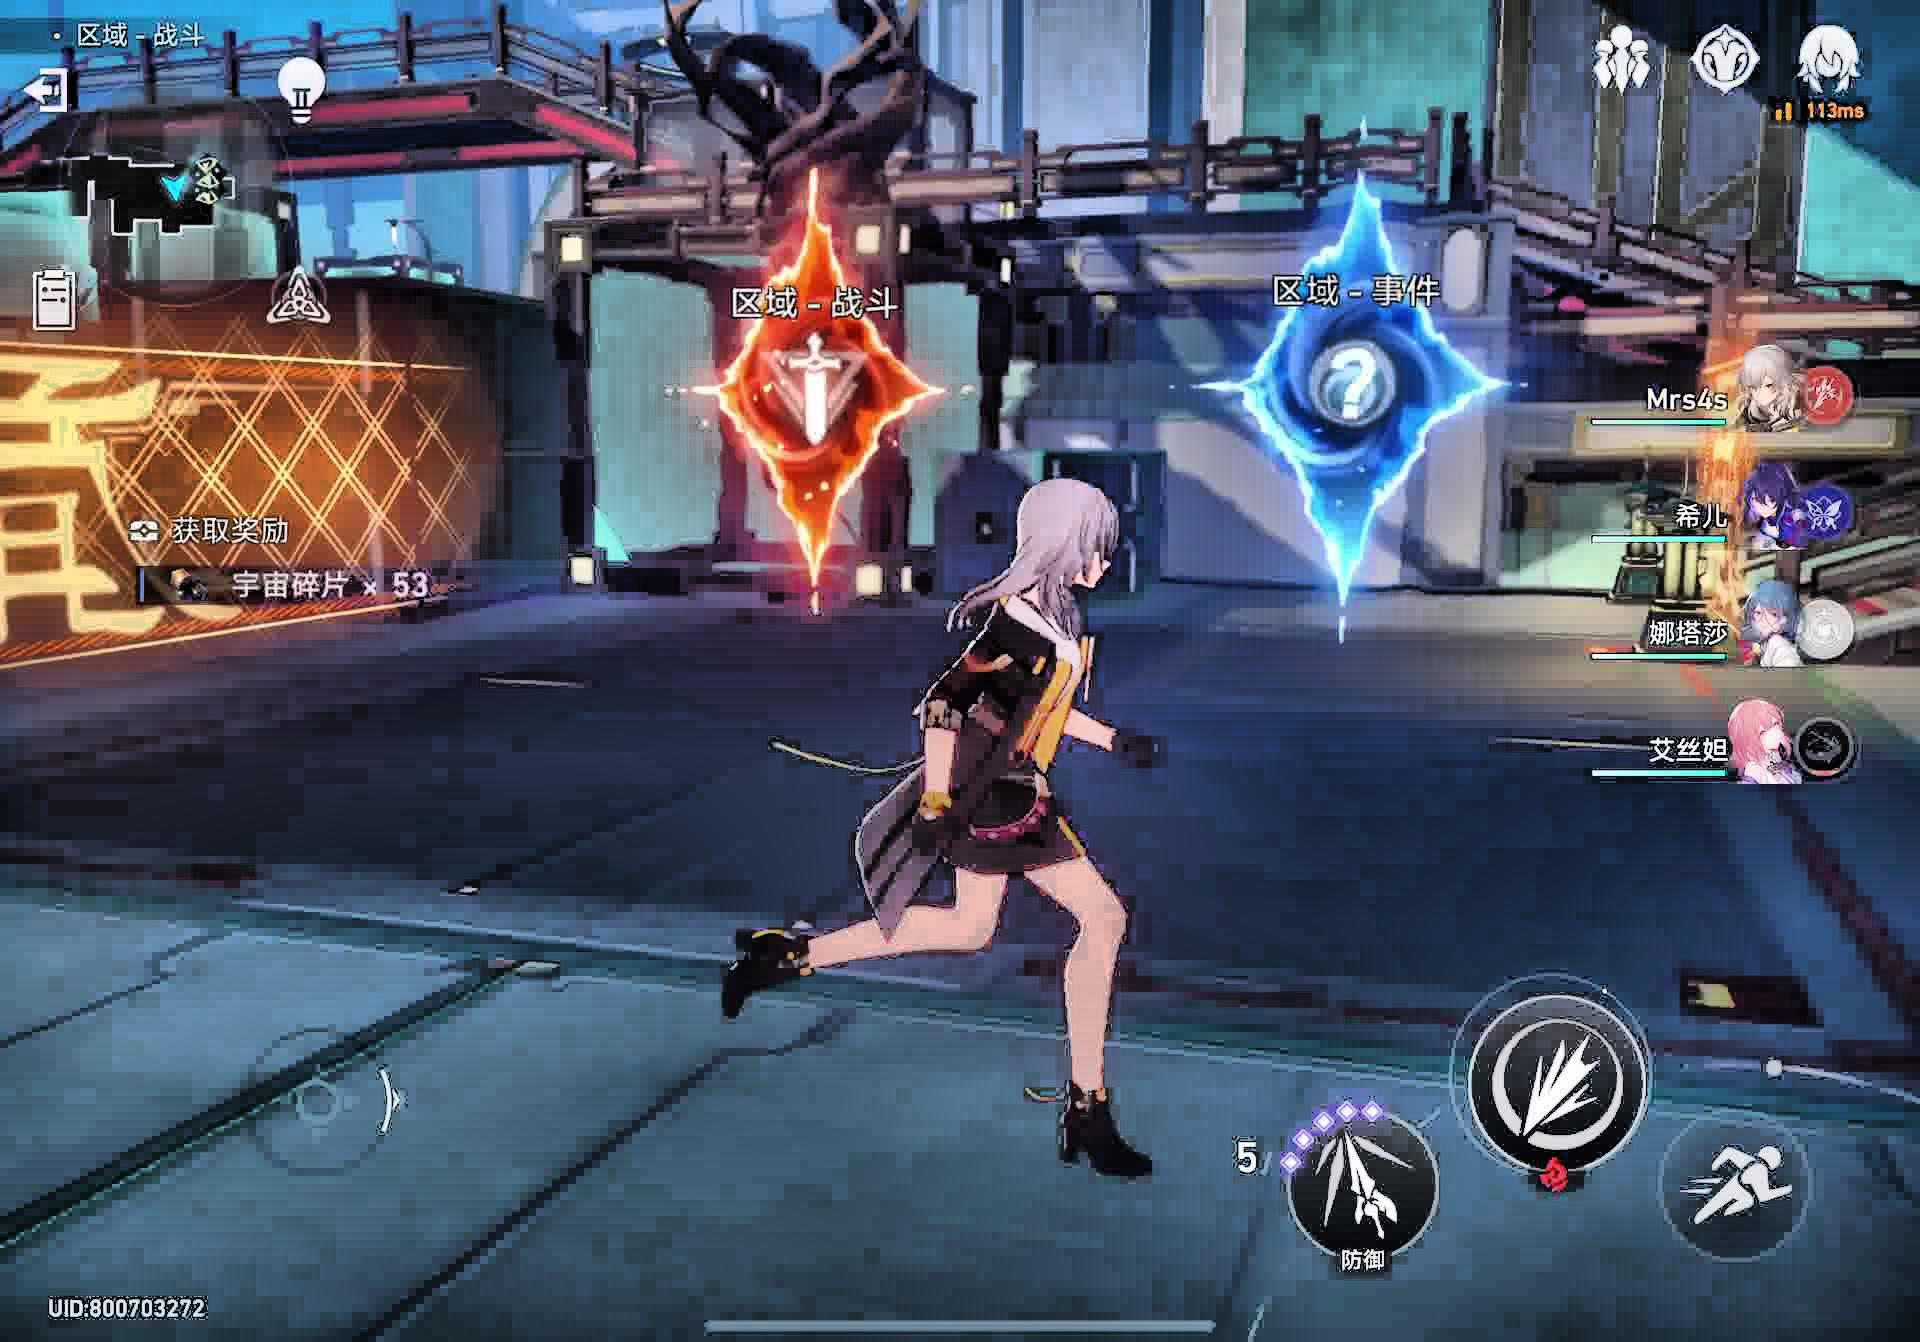BattleDoor: (657, 184, 967, 630)
EventDoor: (1172, 182, 1528, 662)
Self: (729, 478, 1172, 1186)
